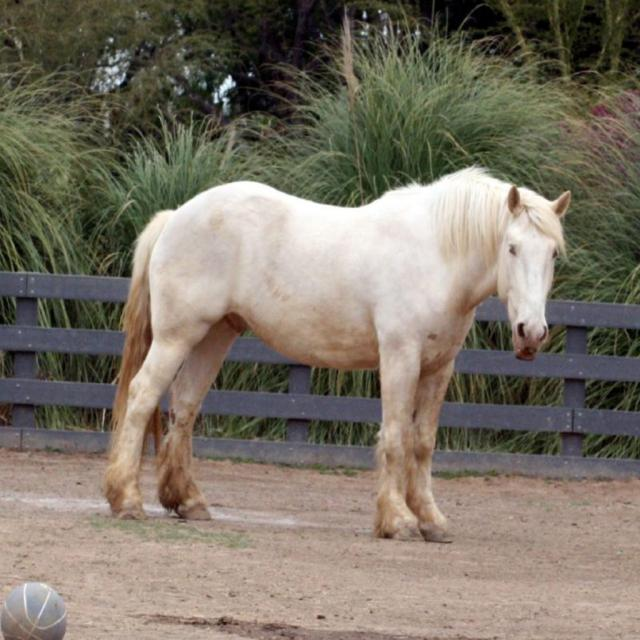Horse: (84, 149, 575, 534)
